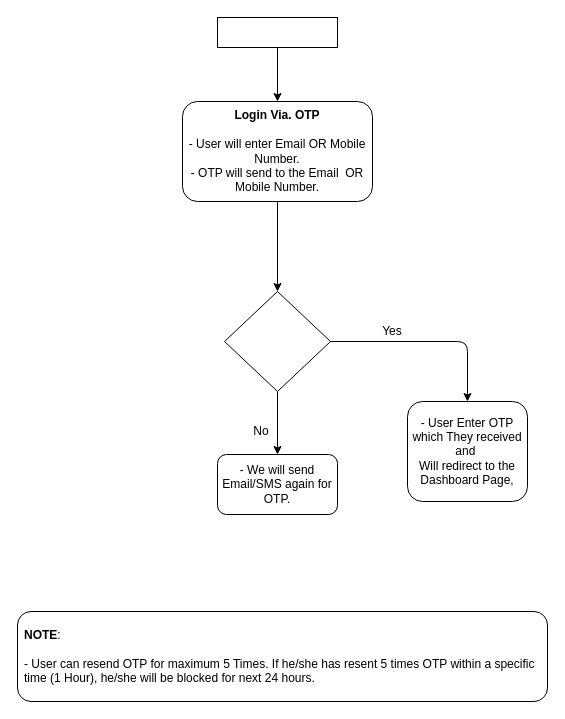
Image size: 565x719. Some labels were removed from this diagram. Here are the shapes that lost their labels. From the top down, the box of each, then its label:
(216, 16, 338, 48): Login Flow
(224, 290, 330, 392): Didn't receive Code?
